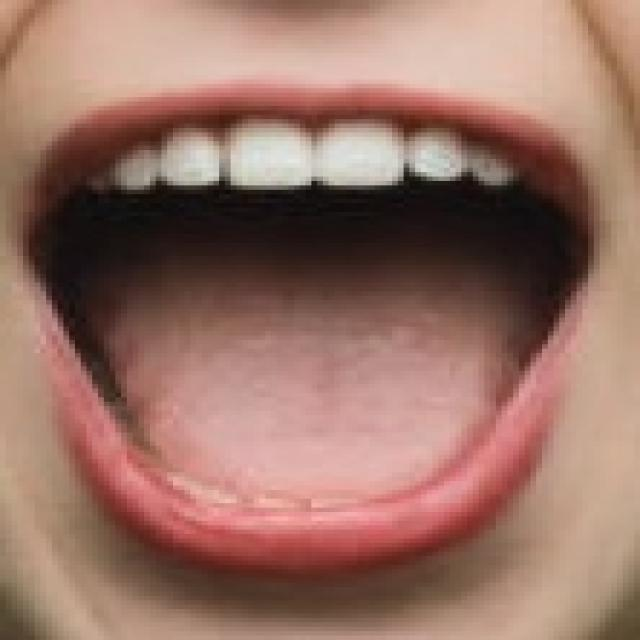open-mouth: (12, 75, 600, 578)
